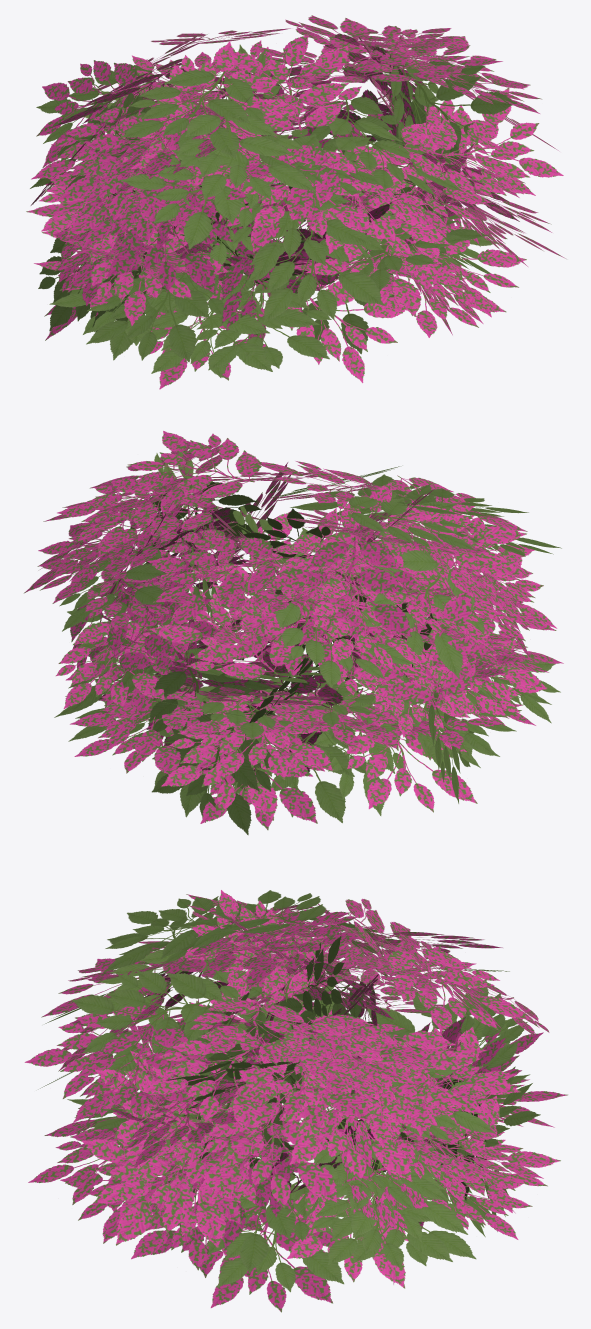
File: bougainvillea_b.glb
The picture shows the model from 3 angles, top to bottom: view 1: azimuth 30°, elevation 25°; view 2: azimuth 150°, elevation 25°; view 3: azimuth 270°, elevation 25°; orthographic projection. The views are drawn at different scales.
Visible parts, largest first — view 1: leaves_w; view 2: leaves_w; view 3: leaves_w.
Boxes of the visible parts, x1,y1,x2,y2 form: leaves_w: [26, 15, 565, 389]; leaves_w: [24, 431, 563, 835]; leaves_w: [24, 890, 567, 1312].
Bounding box in the file's own units: 2.64 × 1.5 × 2.46.
Materials: 2 (2 with a texture image).
